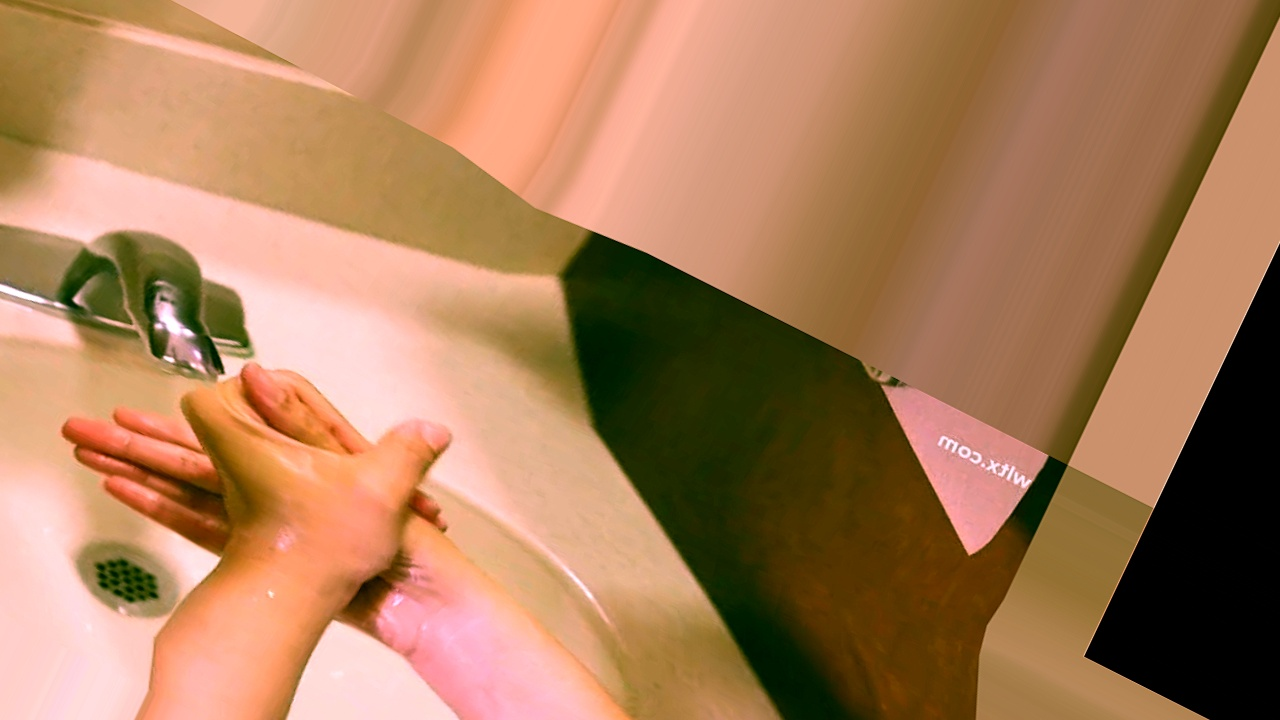washing hand: (0, 73, 551, 719)
